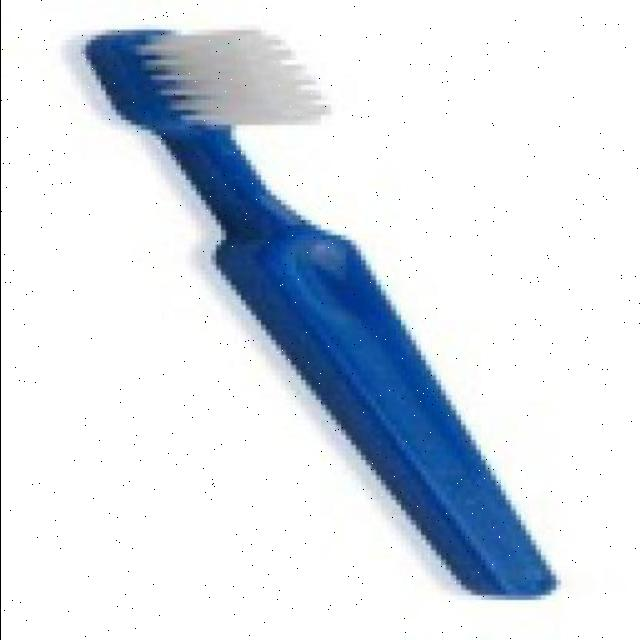toothbrush: (70, 28, 588, 620)
